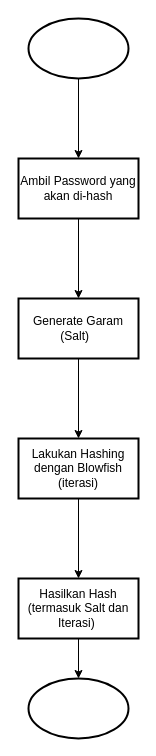
Image size: 156x756. Some labels were removed from this diagram. The box of each missing label's shape, as (x1, y1, x2, y2) in pixels:
Mulai: (27, 17, 129, 79)
Selesai: (27, 677, 129, 739)
